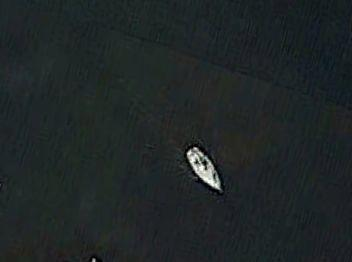Ships: (170, 140, 232, 206)
